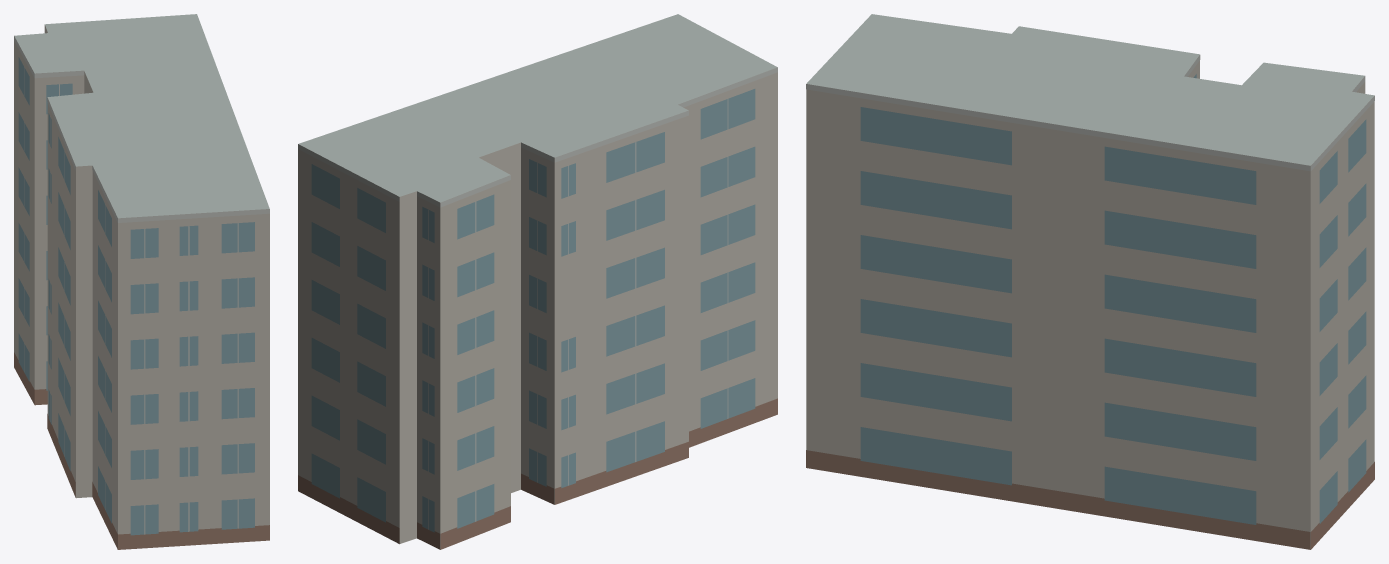
Rendered from survey-upis-32984323.glb.
3 renders of one model, left to right at view 1: azimuth 30°, elevation 25°; view 2: azimuth 150°, elevation 25°; view 3: azimuth 270°, elevation 25°, orthographic. The views are drawn at different scales.
Parts seen in each view (by area): view 1: survey-upis-32984323.tmp; view 2: survey-upis-32984323.tmp; view 3: survey-upis-32984323.tmp.
Part boxes in pixels (box(x1,y1,x2,y2)): survey-upis-32984323.tmp: box(14, 14, 269, 549); survey-upis-32984323.tmp: box(298, 14, 777, 549); survey-upis-32984323.tmp: box(806, 14, 1374, 549).
Bounding box in the file's own units: 14.38 × 16.95 × 22.76.
